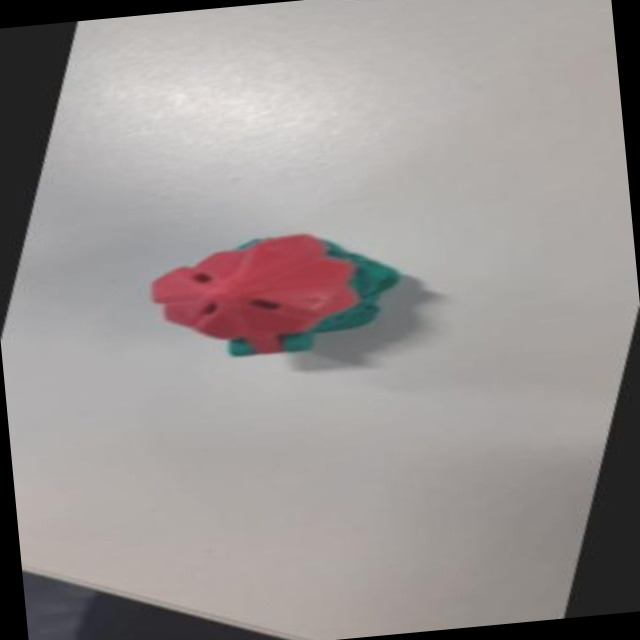House: (116, 211, 438, 381)
